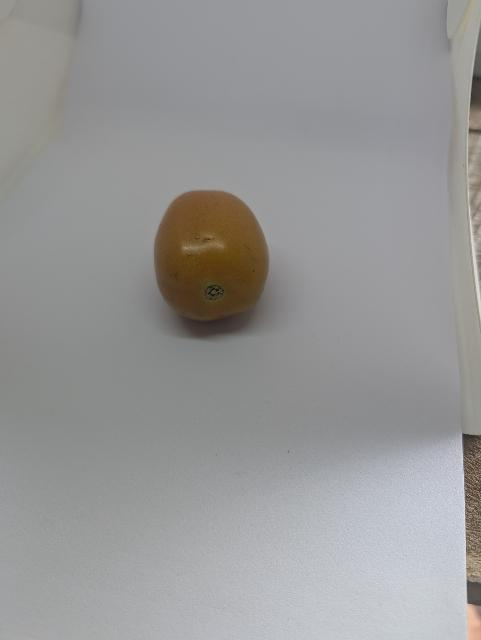turning: (153, 188, 274, 329)
